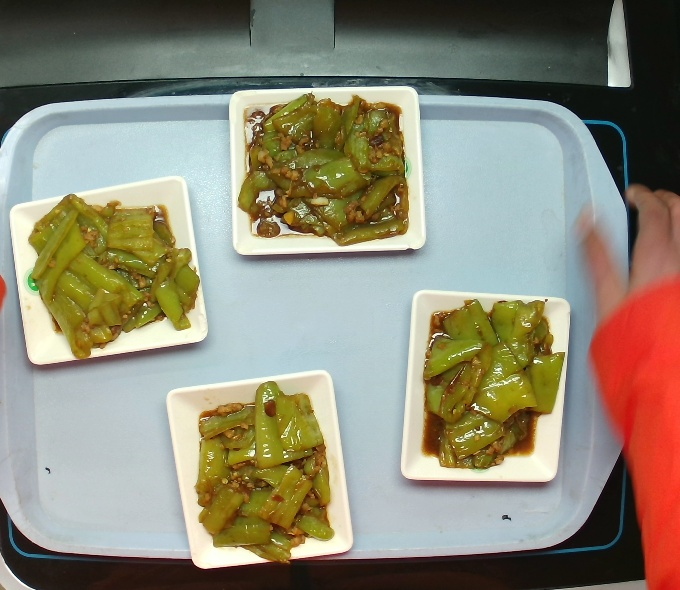wcq-RouMoQingJiao: (405, 290, 567, 484), (241, 83, 407, 257), (25, 201, 195, 348), (196, 392, 333, 554)
